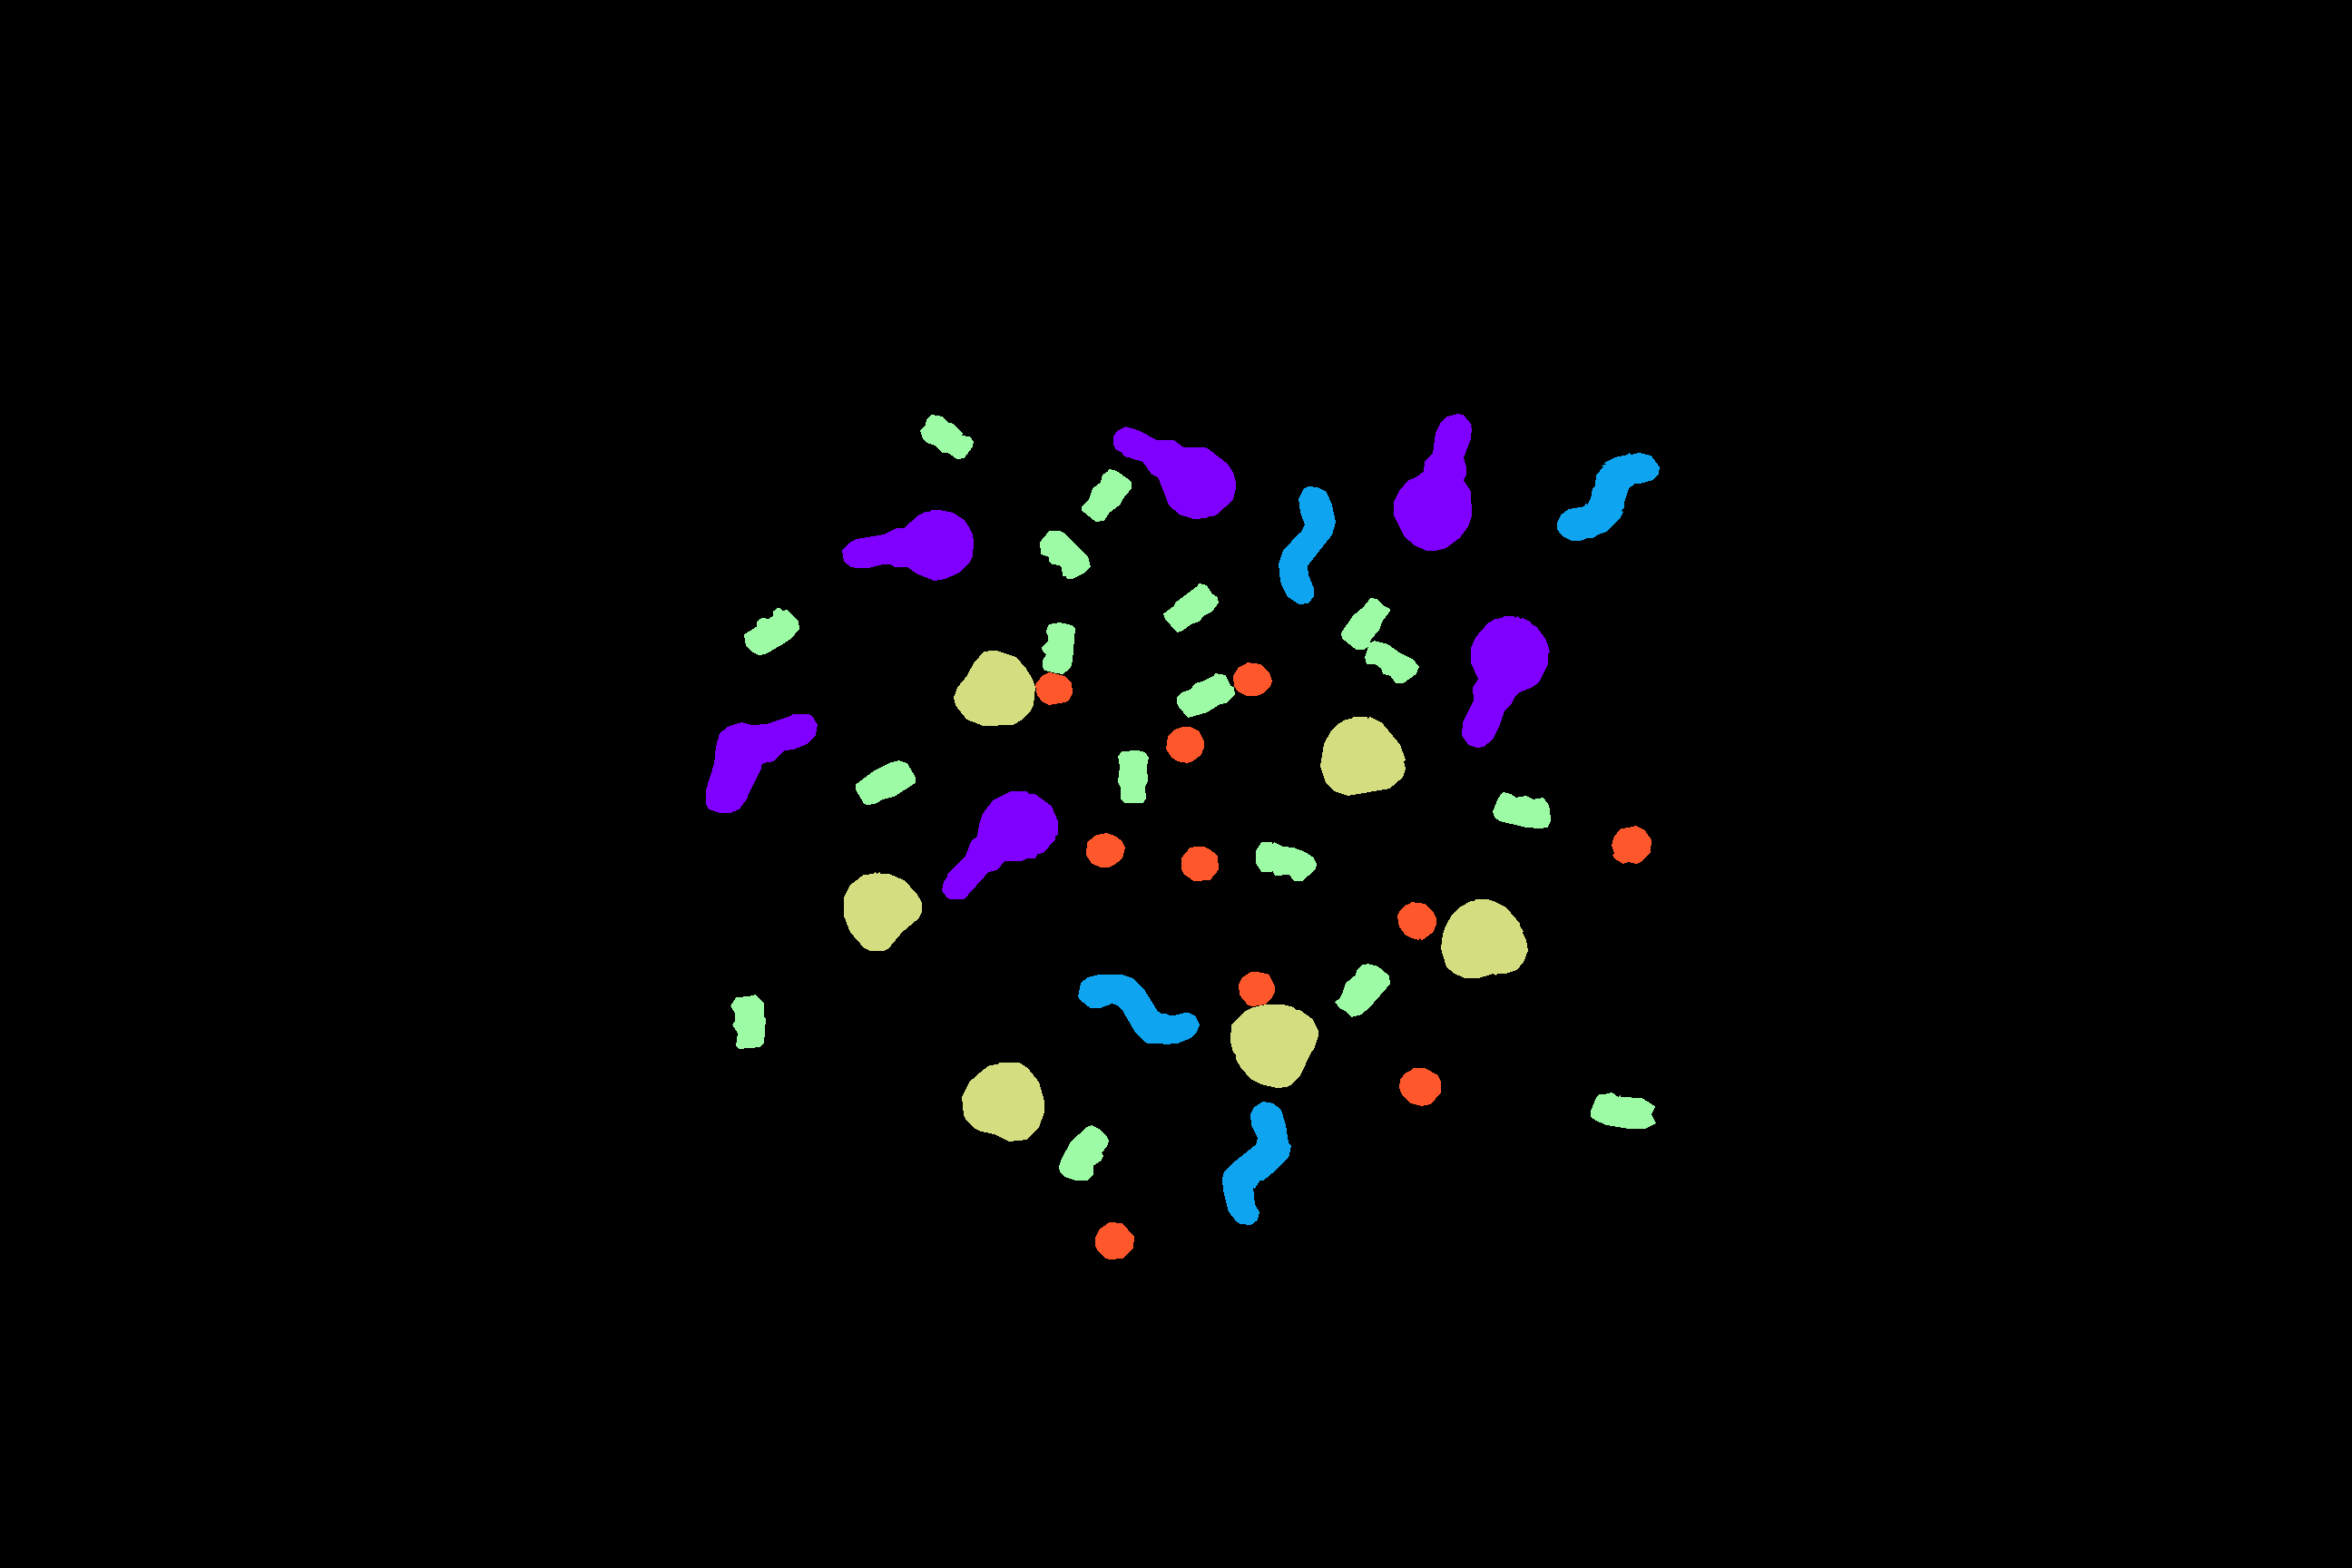apricot_jellies: (1230, 1004, 1318, 1087), (1440, 900, 1528, 976), (1319, 718, 1405, 794), (963, 1062, 1043, 1141), (843, 871, 920, 950), (954, 651, 1034, 724)
bear: (1335, 964, 1389, 1017), (1059, 1125, 1108, 1179), (1164, 583, 1218, 632), (1081, 469, 1130, 522), (744, 607, 798, 655), (856, 761, 915, 803), (1340, 598, 1389, 649), (1178, 674, 1234, 718), (1040, 530, 1090, 577), (1591, 1092, 1656, 1129), (920, 415, 973, 458), (1256, 842, 1316, 880), (1365, 640, 1417, 682), (1493, 793, 1551, 828), (730, 994, 765, 1048), (1041, 623, 1074, 674), (1118, 751, 1148, 802)
dummies: (942, 791, 1057, 898), (1461, 616, 1549, 747), (1113, 427, 1236, 518), (705, 714, 817, 812), (1393, 413, 1472, 549), (842, 509, 973, 579)
skittles: (1400, 1068, 1440, 1106), (1166, 726, 1204, 763), (1612, 826, 1650, 863), (1398, 901, 1435, 940), (1095, 1221, 1134, 1258), (1095, 1223, 1134, 1258), (1239, 971, 1274, 1006), (1181, 847, 1218, 880), (1087, 833, 1123, 866), (1234, 663, 1270, 695), (1036, 672, 1071, 704)
sourworms: (1558, 453, 1659, 541), (1221, 1101, 1290, 1223), (1078, 975, 1199, 1043), (1279, 486, 1335, 604)
